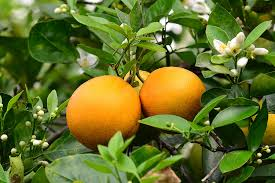orange: (64, 74, 141, 146), (137, 61, 206, 128)
